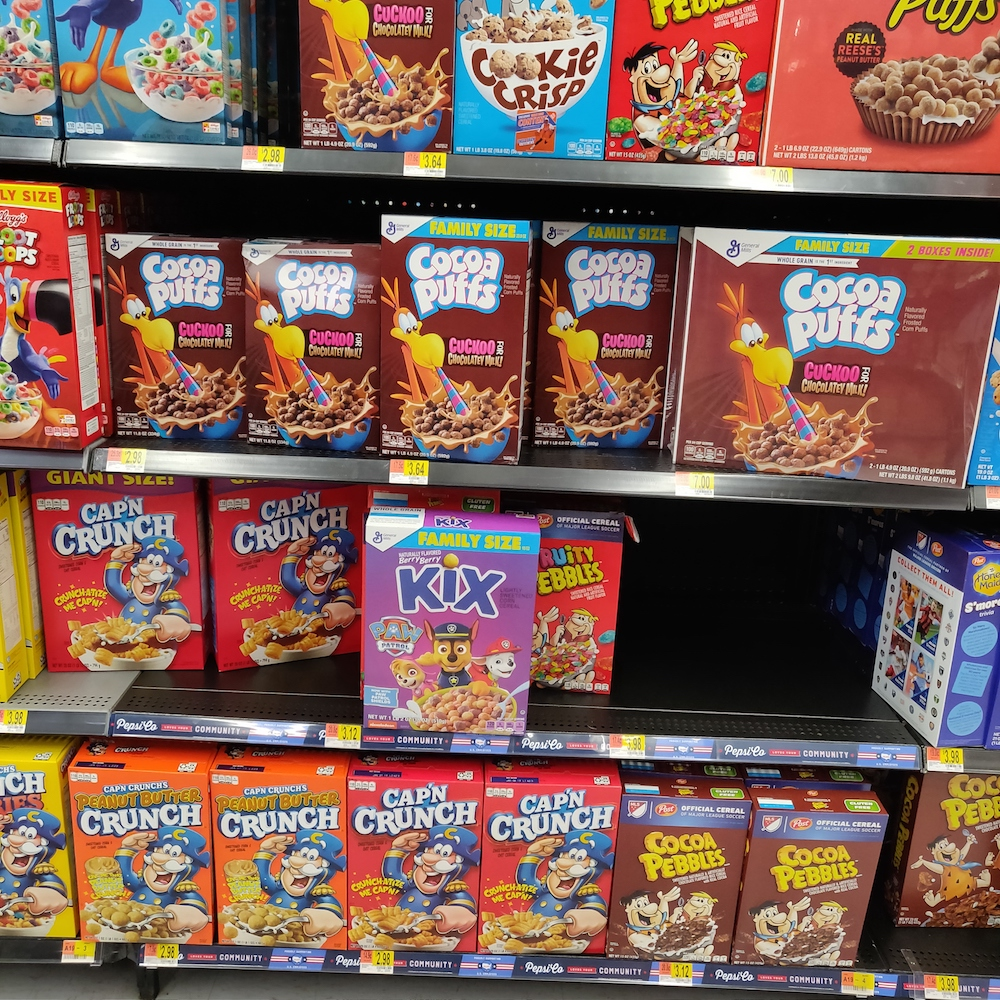Kix Berry -568919964: (358, 523, 528, 740)
